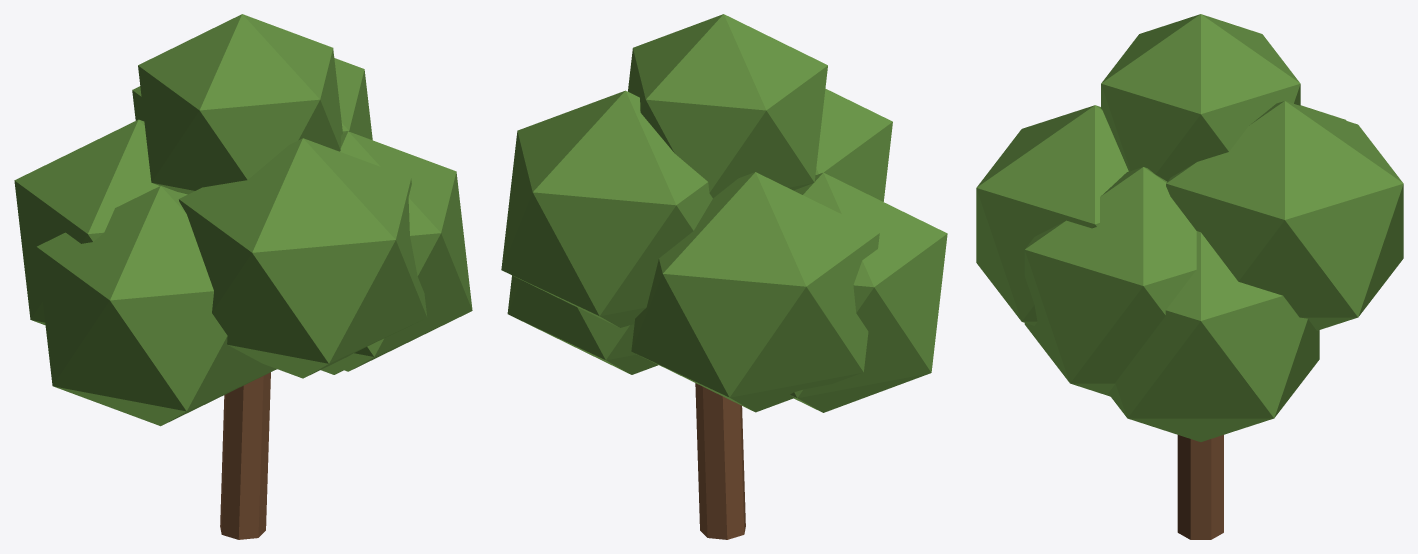
The model's file is tree_19.glb.
3 views of the same model, side by side, from view 1: azimuth 30°, elevation 25°; view 2: azimuth 150°, elevation 25°; view 3: azimuth 270°, elevation 25° (orthographic).
Parts seen in each view (by area): view 1: tree_19; view 2: tree_19; view 3: tree_19.
Part boxes in pixels (box(x1,y1,x2,y2)): tree_19: box(14, 14, 472, 539); tree_19: box(501, 14, 947, 539); tree_19: box(976, 14, 1403, 539).
Bounding box in the file's own units: 2.9 × 3.59 × 2.69.
